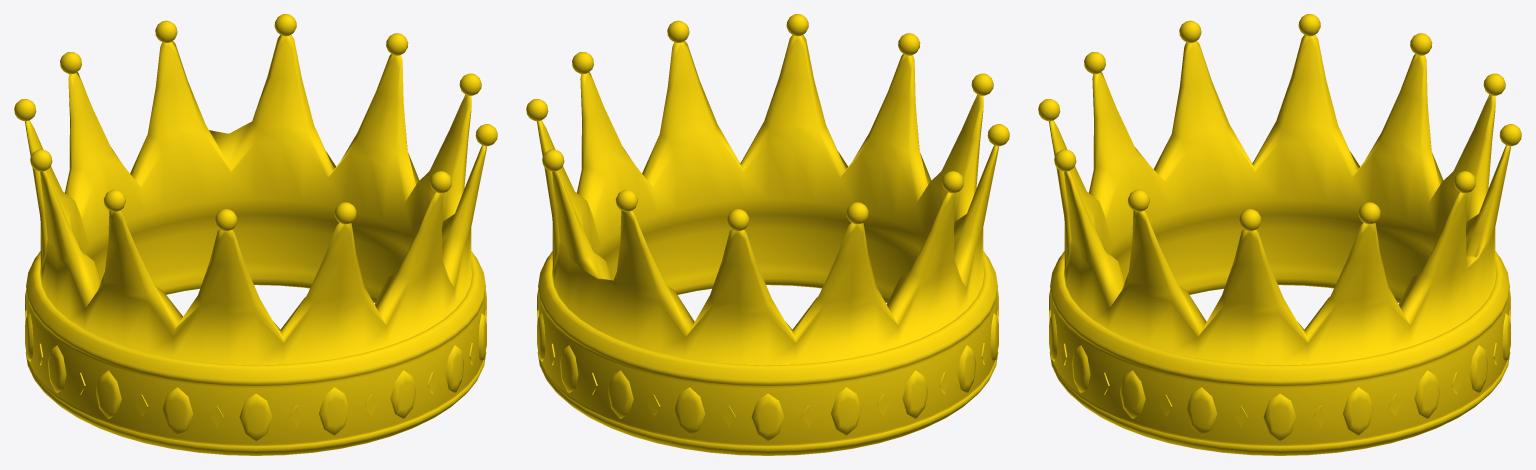
File: Corona.FBX
3 renders of one model, left to right at view 1: azimuth 30°, elevation 25°; view 2: azimuth 150°, elevation 25°; view 3: azimuth 270°, elevation 25°, orthographic.
Visible parts, largest first — view 1: Box131; view 2: Box131; view 3: Box131.
Part boxes in pixels (box(x1,y1,x2,y2)): Box131: box(14, 14, 497, 455); Box131: box(526, 14, 1009, 455); Box131: box(1038, 14, 1521, 455).
Bounding box in the file's own units: 24.31 × 14.02 × 24.31.
